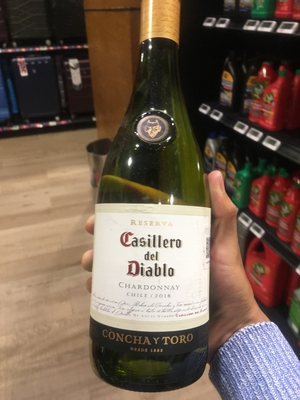casillero del diablo chardonnay: (86, 3, 219, 373)
